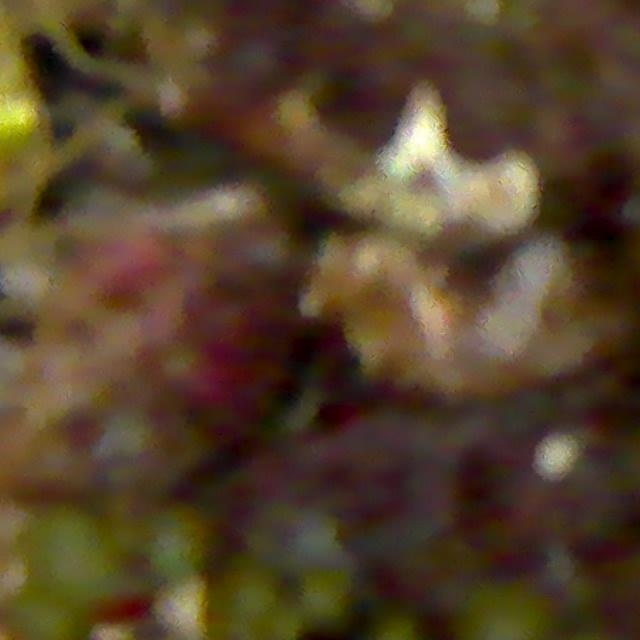SeaGrape: (32, 505, 129, 611), (142, 505, 213, 583), (12, 590, 82, 640)
